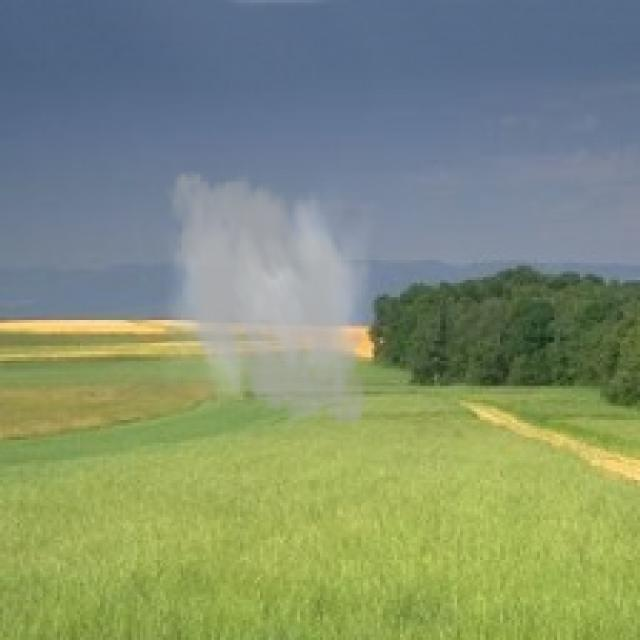Smoke: (148, 160, 383, 437)
